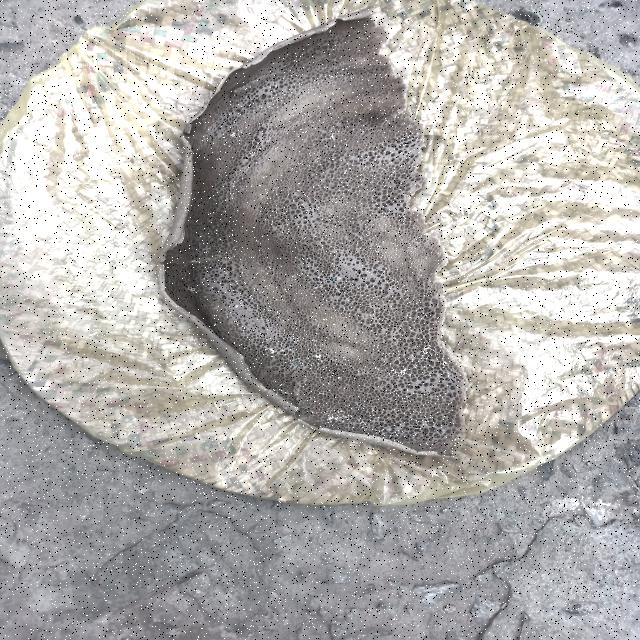injera_mold: (322, 410, 346, 424), (265, 345, 284, 357), (290, 358, 303, 369), (184, 285, 197, 293), (202, 245, 212, 253), (229, 132, 237, 138), (301, 406, 310, 411), (318, 392, 325, 396), (287, 334, 292, 338), (316, 354, 321, 358), (234, 304, 238, 308), (313, 340, 317, 342), (214, 323, 216, 326), (202, 278, 205, 280), (203, 296, 206, 298), (321, 360, 323, 362)
